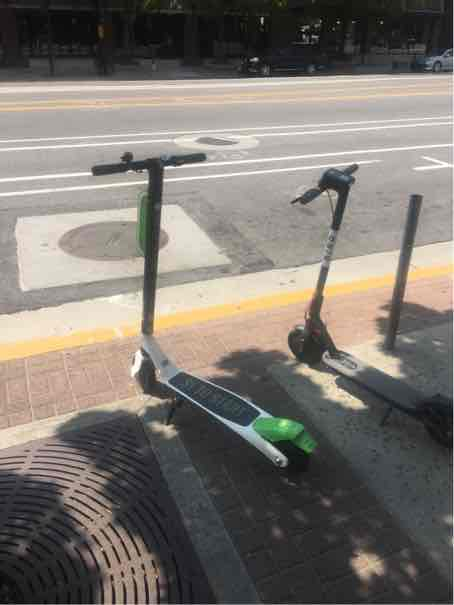scooter: (72, 150, 326, 476)
